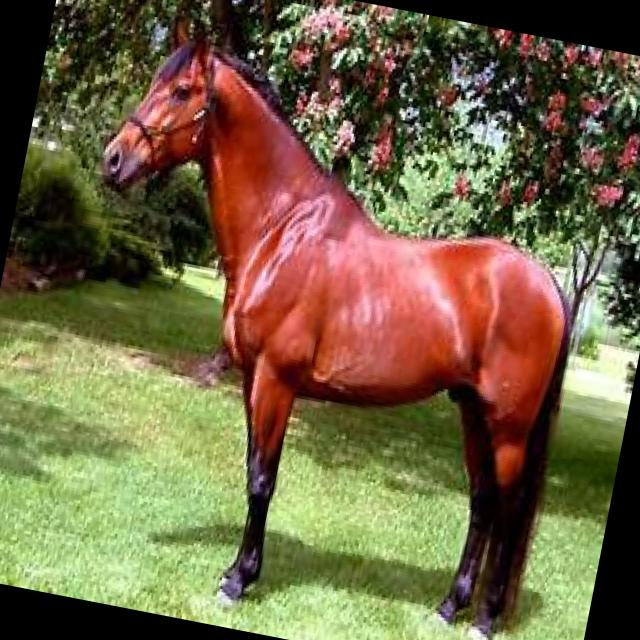horse: (26, 4, 611, 640)
